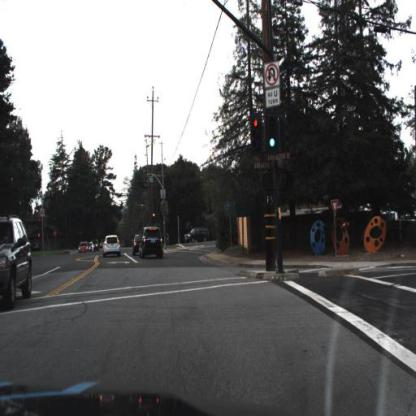car: (1, 214, 34, 314), (140, 227, 165, 259), (104, 233, 122, 258), (186, 227, 211, 245), (104, 235, 122, 259), (132, 233, 142, 257), (78, 241, 89, 253)
trafficLight-Green: (268, 111, 280, 149)
trafficLight-Red: (249, 114, 261, 153)
